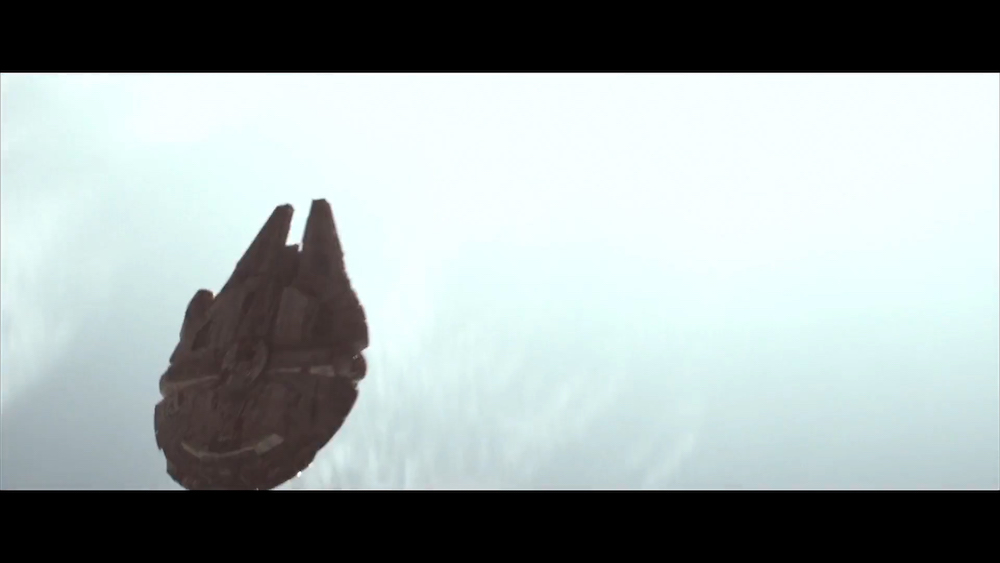Millennium Falcon: (153, 198, 371, 488)
